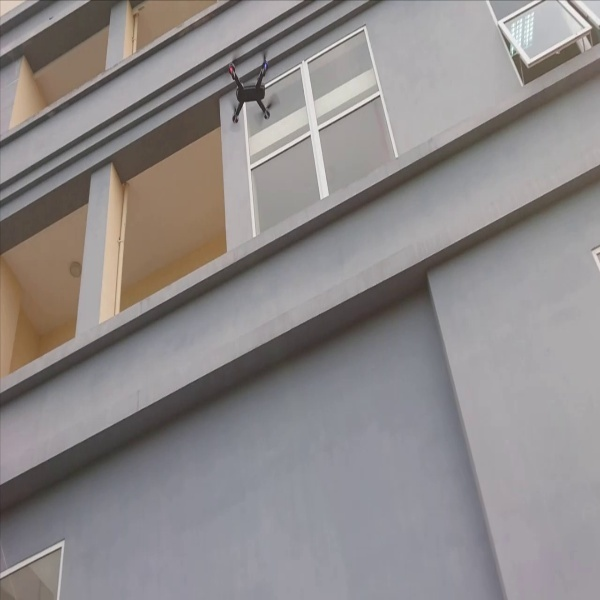drone: (215, 40, 291, 127)
